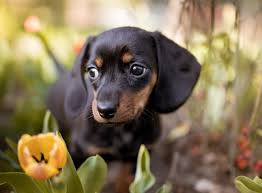dog: (28, 17, 208, 181)
